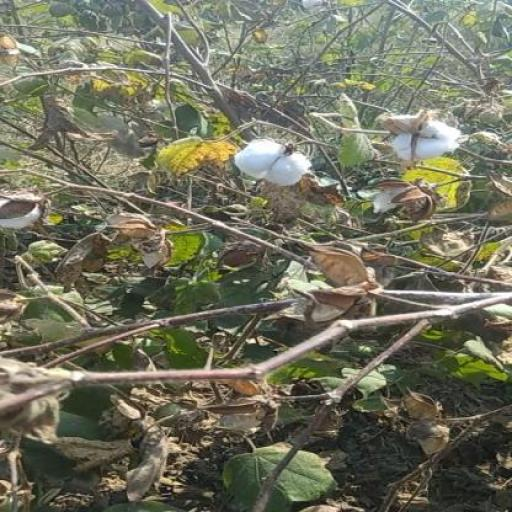cotton_ready: (212, 126, 328, 204), (381, 101, 482, 178)
